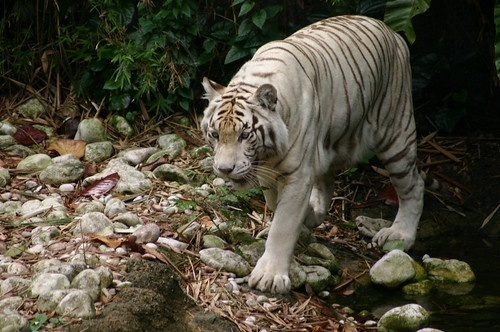tigre: (199, 14, 427, 294)
